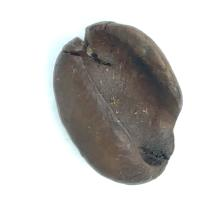NG: (101, 70, 180, 168), (79, 25, 169, 80)
